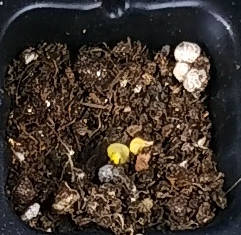pepper seed: (51, 59, 206, 214), (40, 60, 172, 225)
